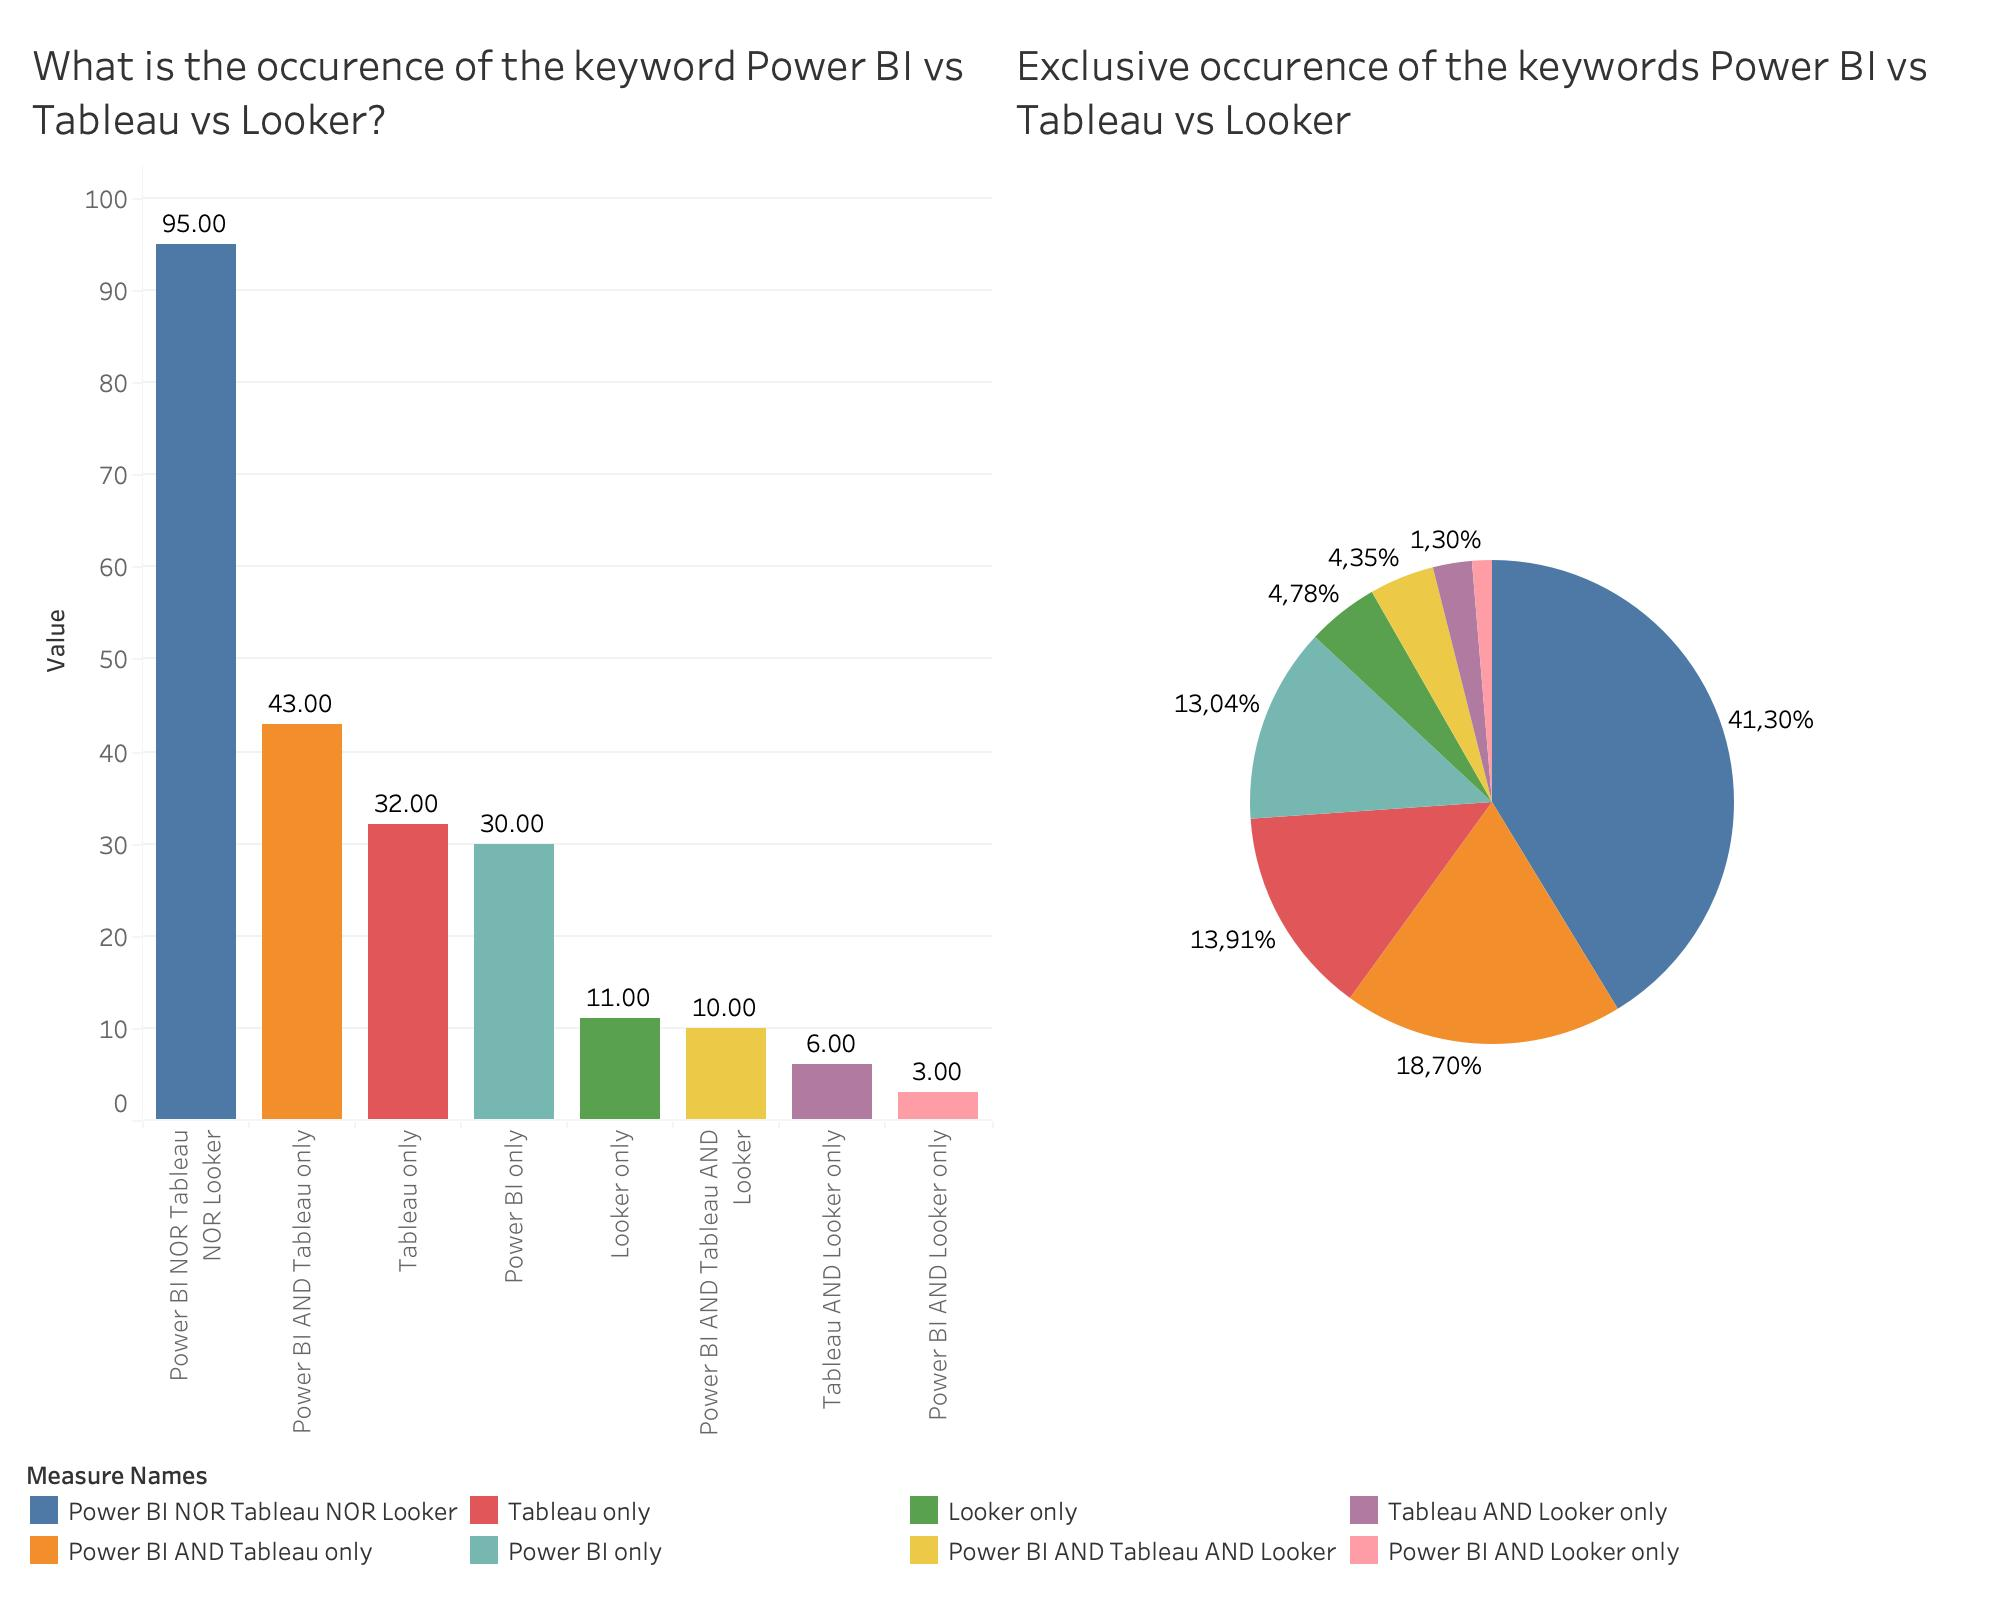

The dashboard page shown, as its layout file describes it:
{"tool":"tableau","page":{"name":"Bi Tools - Dashboard","canvas":[1000,800],"ordinal":0},"visuals":[{"type":"worksheet","title":"Bi Tools - Bar","mark":"Automatic","box":[8,8,492,715]},{"type":"worksheet","title":"Bi Tools - Pie","mark":"Pie","box":[500,8,492,715]},{"type":"legend","title":"Bi Tools - Bar","param":"[federated.085hs650uwi5ku1cphnot1cb6b0q].[:Measure Names]","box":[8,723,984,69]}]}

Visuals, with their boxes in screenshot pixels (x1, y1, x2, y2), scaled from the page's 1000x800 canvas onto the 2000x1600 screenshot:
"Bi Tools - Bar" worksheet: <box>16,16,1000,1446</box>
"Bi Tools - Pie" worksheet (Pie marks): <box>1000,16,1984,1446</box>
"Bi Tools - Bar" legend: <box>16,1446,1984,1584</box>
